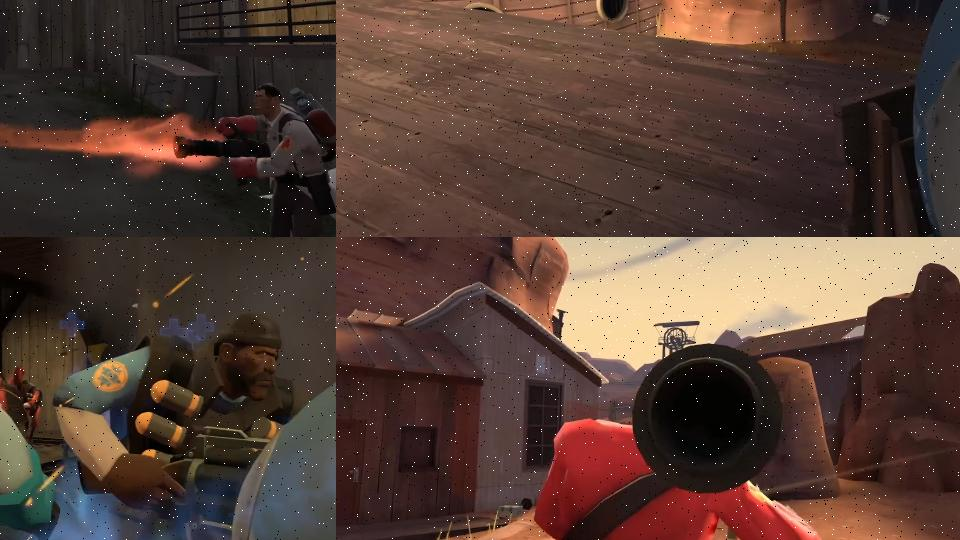Enemy: (525, 338, 841, 540), (52, 315, 298, 540), (172, 82, 336, 237), (0, 365, 28, 444), (19, 379, 42, 443)
